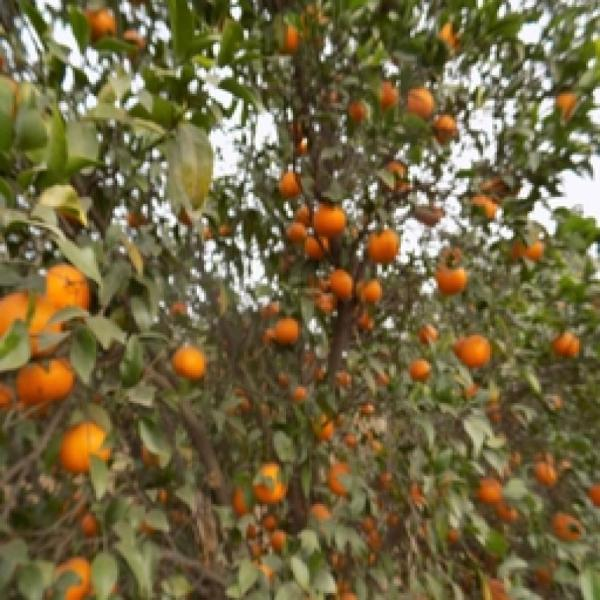Sana: (0, 291, 67, 355), (58, 420, 115, 476), (38, 266, 96, 321), (18, 358, 79, 407), (61, 491, 107, 543), (48, 552, 96, 599), (75, 4, 124, 45), (453, 331, 495, 376), (378, 155, 416, 204), (252, 459, 289, 505), (324, 462, 364, 504), (428, 19, 464, 65), (303, 502, 343, 542), (433, 257, 472, 298), (547, 513, 590, 550), (364, 226, 403, 264), (311, 200, 349, 239), (169, 346, 210, 382), (114, 24, 150, 61), (526, 458, 564, 491), (405, 83, 438, 121), (264, 318, 303, 350), (551, 88, 585, 124), (369, 77, 401, 115), (344, 96, 376, 134), (468, 195, 502, 230), (275, 23, 306, 61), (549, 326, 581, 362), (496, 494, 526, 532), (329, 264, 358, 302), (355, 274, 386, 309), (517, 232, 547, 266), (429, 114, 463, 144), (476, 476, 504, 510), (401, 360, 440, 384), (277, 168, 307, 199), (305, 232, 330, 264), (0, 381, 20, 418), (418, 326, 446, 351), (286, 222, 311, 244), (292, 203, 316, 222), (591, 482, 600, 510)
